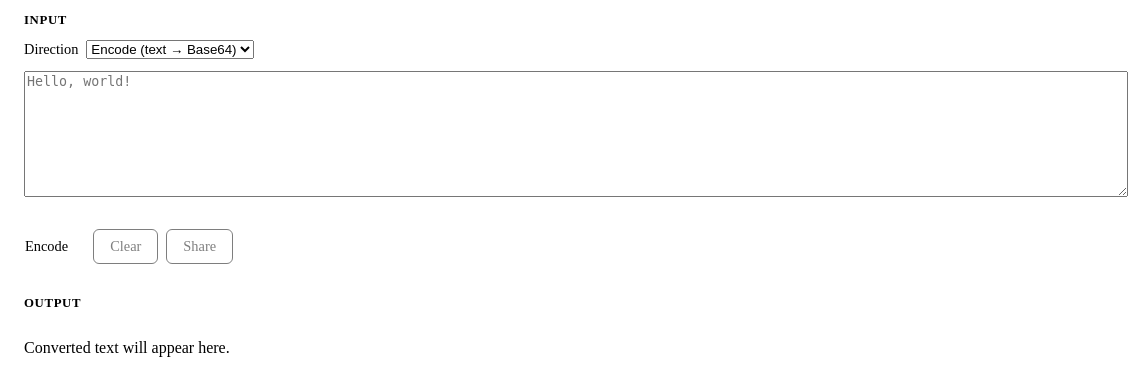
Test: Base64CodecTool › shows a visible error message and no garbage output for invalid Base64
Select "Decode (Base64 → text)" in the dropdown labelled "Direction". click: x=170, y=50
box: 86,40 -> 254,59
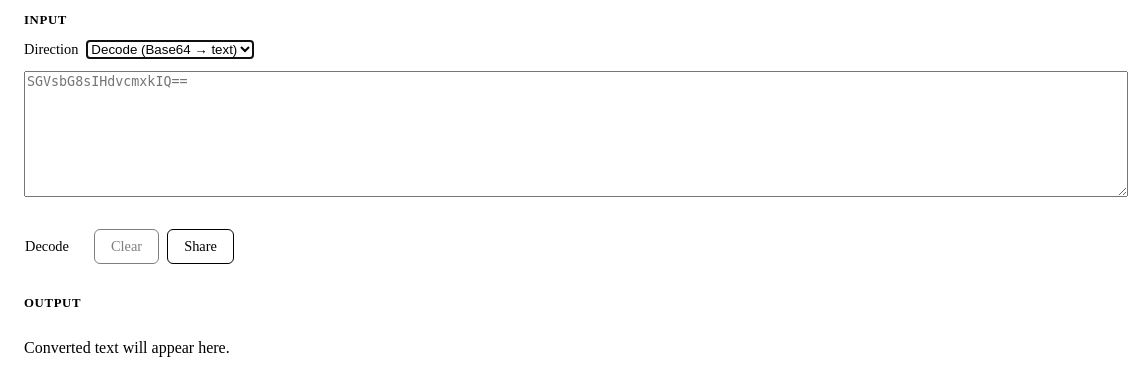
Type "%%%" into the text box named "Base64 input". click: x=576, y=134
box: 24,71 -> 1128,197
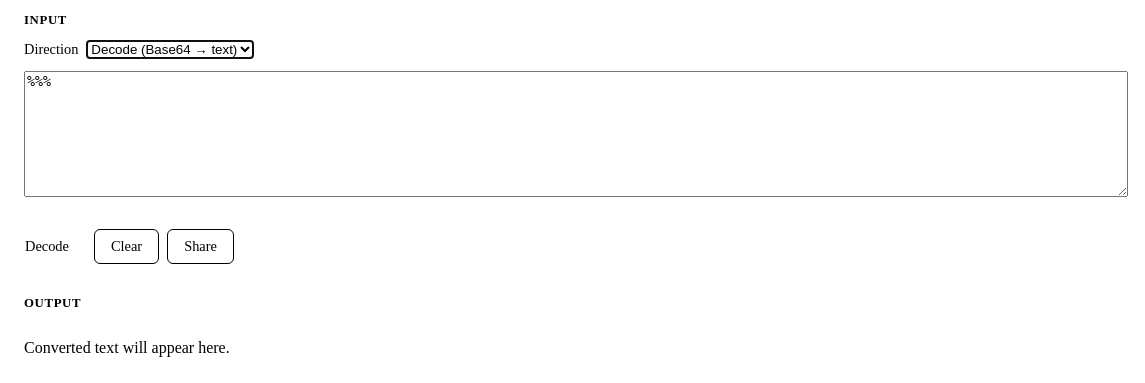
Click the button "Decode". click: x=47, y=246
box: 8,229 -> 86,264
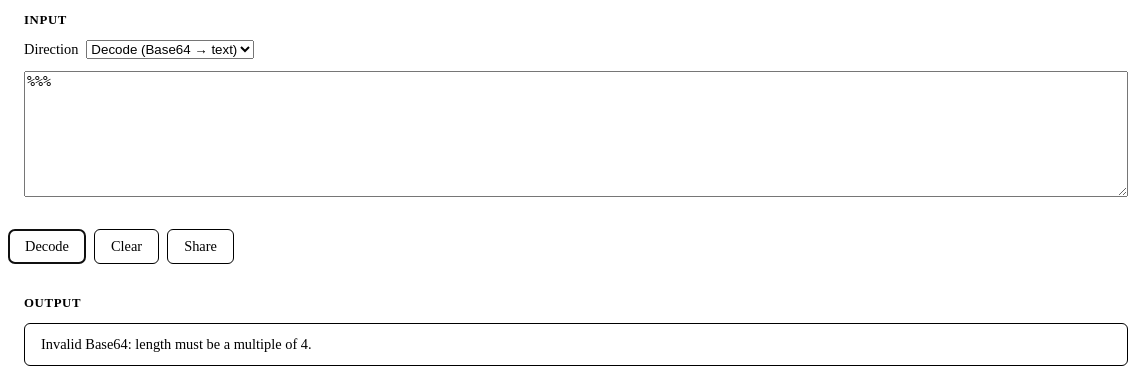
Expected: the message shows "Invalid Base64", 41,336 -> 312,352
